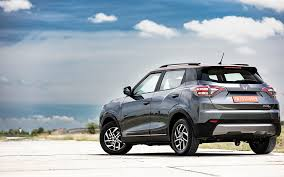XUV 400: (97, 52, 282, 157)
